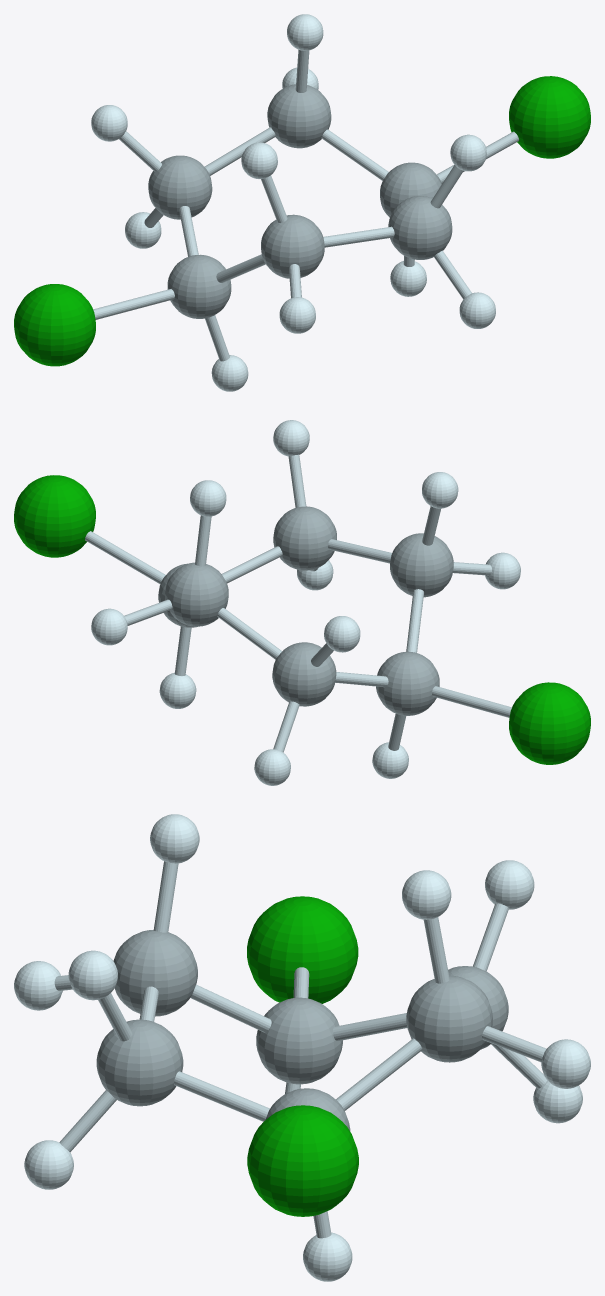
Rendered from irc_step_130.glb.
3 views of the same model, one above another, from view 1: azimuth 30°, elevation 25°; view 2: azimuth 150°, elevation 25°; view 3: azimuth 270°, elevation 25° (orthographic). The views are drawn at different scales.
Visible parts, largest first — view 1: Renderer Node; view 2: Renderer Node; view 3: Renderer Node.
Boxes of the visible parts, x1,y1,x2,y2 form: Renderer Node: (14,14,590,391); Renderer Node: (14,420,590,785); Renderer Node: (14,814,590,1281).
Size of the model in its own units: 7.11 by 3.64 by 4.65.
